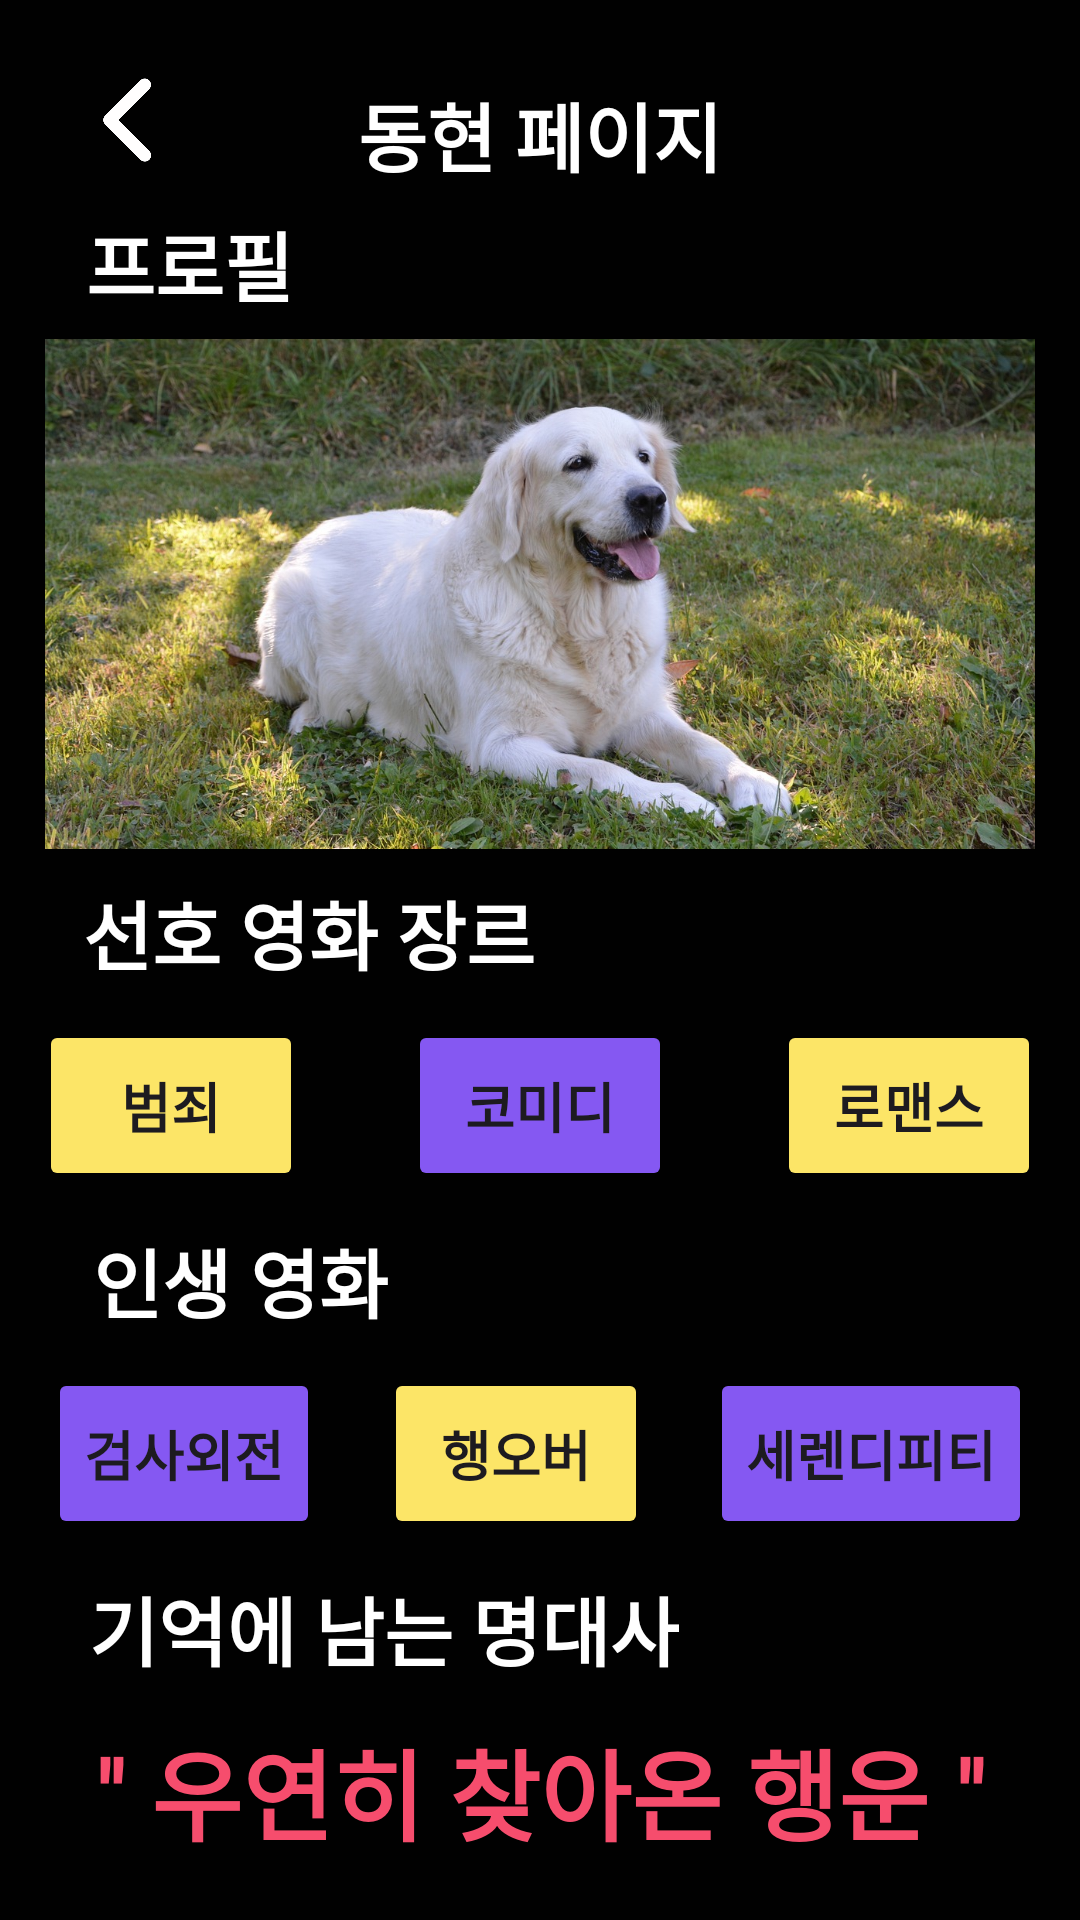

Where to tap for icons on this 1080w x 1920h app screen, as [x,y]:
back: [127,120]
